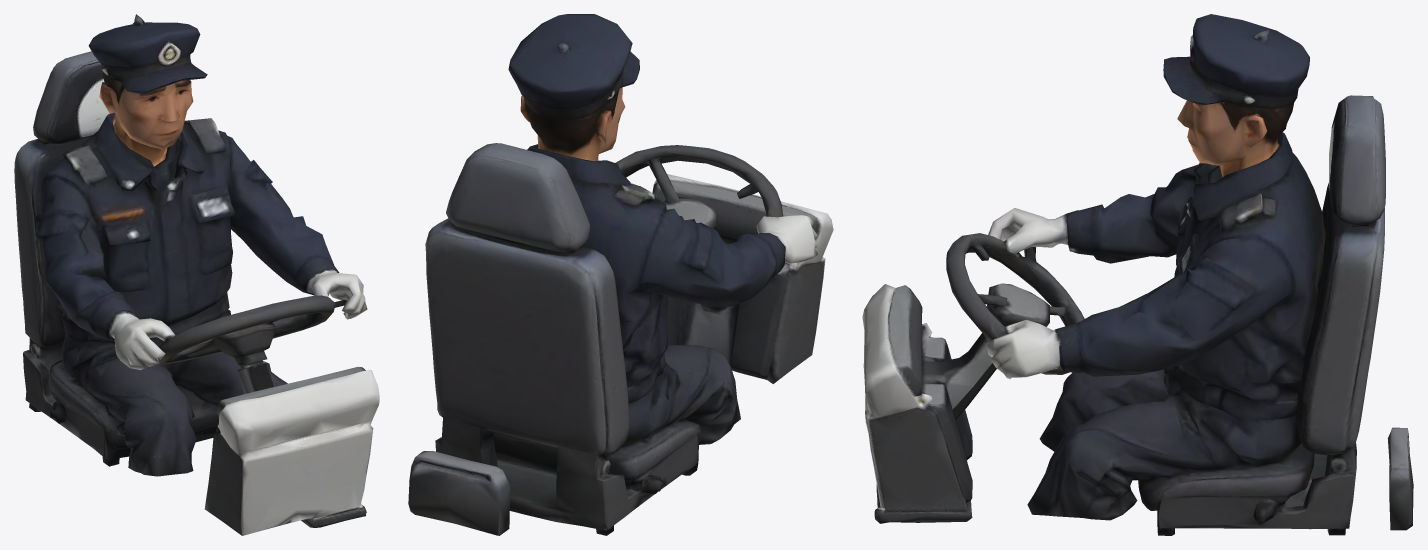
The model's file is bus-driver.glb.
3 views of the same model, side by side, from view 1: azimuth 30°, elevation 25°; view 2: azimuth 150°, elevation 25°; view 3: azimuth 270°, elevation 25° (orthographic). The views are drawn at different scales.
Visible parts, largest first — view 1: tripo_node_671a400b-000c-4586-8cdb-8ae978f237b8; view 2: tripo_node_671a400b-000c-4586-8cdb-8ae978f237b8; view 3: tripo_node_671a400b-000c-4586-8cdb-8ae978f237b8.
Part boxes in pixels (x1,y1,x2,y2): tripo_node_671a400b-000c-4586-8cdb-8ae978f237b8: [14, 14, 379, 535]; tripo_node_671a400b-000c-4586-8cdb-8ae978f237b8: [408, 14, 833, 535]; tripo_node_671a400b-000c-4586-8cdb-8ae978f237b8: [862, 14, 1413, 535].
Bounding box in the file's own units: 0.6082 × 0.9368 × 1.
1 material, 1 textured.
